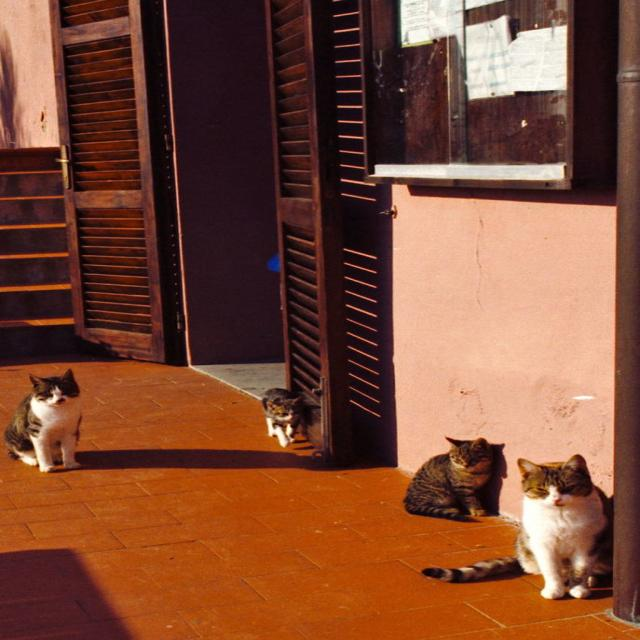Cat: (421, 454, 615, 604), (2, 367, 87, 472), (401, 436, 505, 519), (262, 390, 311, 446)
